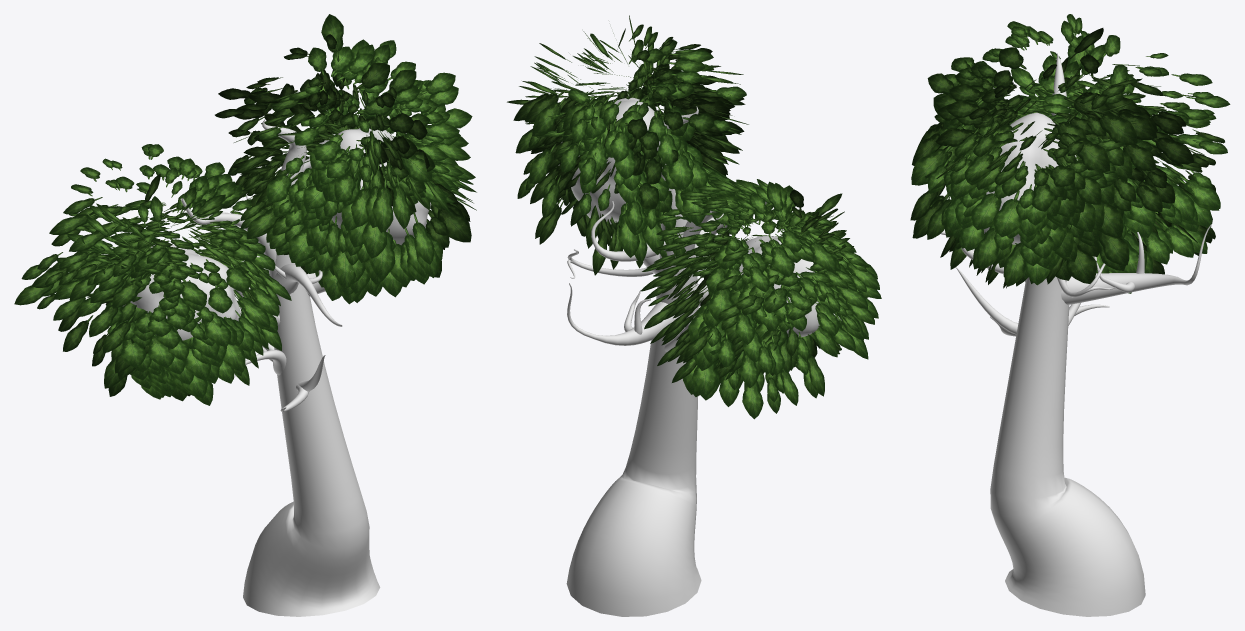
3 renders of one model, left to right at view 1: azimuth 30°, elevation 25°; view 2: azimuth 150°, elevation 25°; view 3: azimuth 270°, elevation 25°, orthographic. The views are drawn at different scales.
Visible parts, largest first — view 1: leaveless_tree_4, Cube.008, Cube.007, Cube.007|Plane.001|Dupli|557, Cube.007|Plane.001|Dupli|602, Cube.007|Plane.001|Dupli|614, Cube.007|Plane.001|Dupli|511, Cube.007|Plane.001|Dupli|502; view 2: leaveless_tree_4, Cube.007, Cube.008, Cube.007|Plane.001|Dupli|915, Cube.008|Plane.001|Dupli|159, Cube.008|Plane.001|Dupli|8, Cube.007|Plane.001|Dupli|8, Cube.007|Plane.001|Dupli|92, Cube.007|Plane.001|Dupli|159, Cube.008|Plane.001|Dupli|284, Cube.008|Plane.001|Dupli|915, Cube.008|Plane.001|Dupli|961; view 3: leaveless_tree_4, Cube.007, Cube.007|Plane.001|Dupli|164, Cube.007|Plane.001|Dupli|736, Cube.007|Plane.001|Dupli|671, Cube.007|Plane.001|Dupli|220, Cube.007|Plane.001|Dupli|838, Cube.007|Plane.001|Dupli|2, Cube.007|Plane.001|Dupli|51, Cube.007|Plane.001|Dupli|8, Cube.007|Plane.001|Dupli|850, Cube.007|Plane.001|Dupli|826 (+17 smaller).
Boxes of the visible parts, <box> form: leaveless_tree_4: <box>180,119,414,616</box>; Cube.008: <box>122,244,240,340</box>; Cube.007: <box>311,128,431,245</box>; Cube.007|Plane.001|Dupli|557: <box>437,207,471,242</box>; Cube.007|Plane.001|Dupli|602: <box>372,175,393,232</box>; Cube.007|Plane.001|Dupli|614: <box>412,212,434,264</box>; Cube.007|Plane.001|Dupli|511: <box>368,231,395,279</box>; Cube.007|Plane.001|Dupli|502: <box>362,220,386,258</box>; leaveless_tree_4: <box>566,106,766,616</box>; Cube.007: <box>558,97,654,224</box>; Cube.008: <box>739,236,819,336</box>; Cube.007|Plane.001|Dupli|915: <box>669,148,693,189</box>; Cube.008|Plane.001|Dupli|159: <box>692,361,717,397</box>; Cube.008|Plane.001|Dupli|8: <box>742,381,763,419</box>; Cube.007|Plane.001|Dupli|8: <box>529,143,556,183</box>; Cube.007|Plane.001|Dupli|92: <box>618,202,639,257</box>; Cube.007|Plane.001|Dupli|159: <box>535,98,565,133</box>; Cube.008|Plane.001|Dupli|284: <box>708,277,732,322</box>; Cube.008|Plane.001|Dupli|915: <box>771,239,794,277</box>; Cube.008|Plane.001|Dupli|961: <box>808,235,836,272</box>; leaveless_tree_4: <box>940,53,1211,616</box>; Cube.007: <box>983,112,1077,244</box>; Cube.007|Plane.001|Dupli|164: <box>1092,110,1137,144</box>; Cube.007|Plane.001|Dupli|736: <box>993,190,1021,237</box>; Cube.007|Plane.001|Dupli|671: <box>911,146,951,185</box>; Cube.007|Plane.001|Dupli|220: <box>1067,134,1109,172</box>; Cube.007|Plane.001|Dupli|838: <box>971,192,1001,230</box>; Cube.007|Plane.001|Dupli|2: <box>1066,248,1096,283</box>; Cube.007|Plane.001|Dupli|51: <box>1099,232,1129,265</box>; Cube.007|Plane.001|Dupli|8: <box>1153,137,1194,163</box>; Cube.007|Plane.001|Dupli|850: <box>976,228,998,269</box>; Cube.007|Plane.001|Dupli|826: <box>1004,243,1025,286</box>.
Size of the model in its own units: 407 by 562 by 279.
